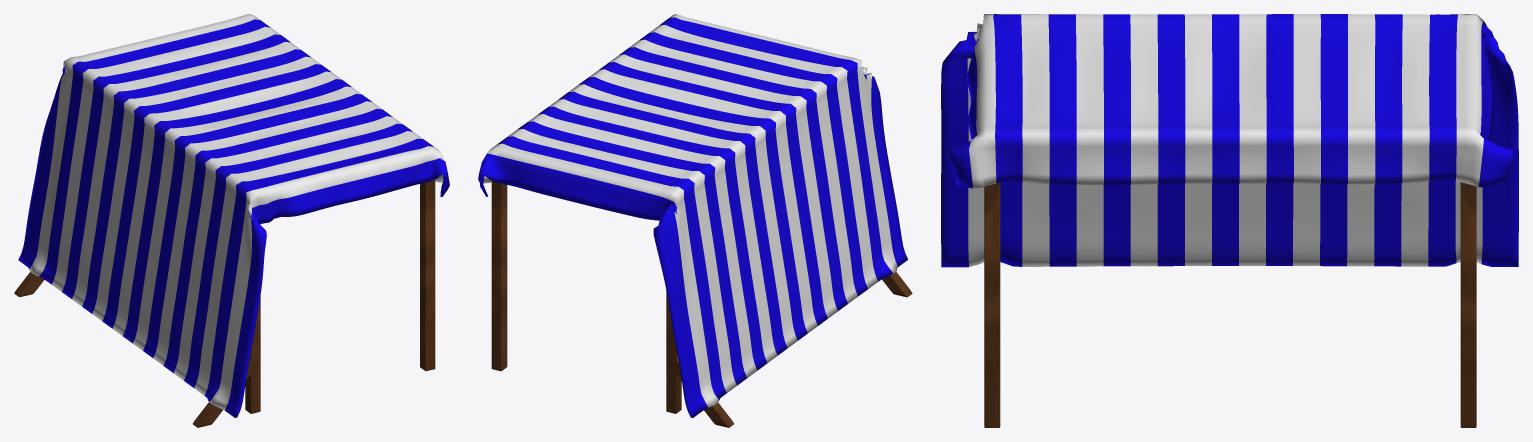
File: Canopy05.glb
The picture shows the model from 3 angles, left to right: view 1: azimuth 30°, elevation 25°; view 2: azimuth 150°, elevation 25°; view 3: azimuth 270°, elevation 25°; orthographic projection. The views are drawn at different scales.
Parts seen in each view (by area): view 1: canopy5; view 2: canopy5; view 3: canopy5.
Part boxes in pixels (x1=…): canopy5: x1=14, y1=14, x2=449, y2=427; canopy5: x1=478, y1=14, x2=912, y2=427; canopy5: x1=941, y1=14, x2=1518, y2=427.
Bounding box in the file's own units: 7.32 × 6.31 × 11.08.
3 materials, 1 textured.
